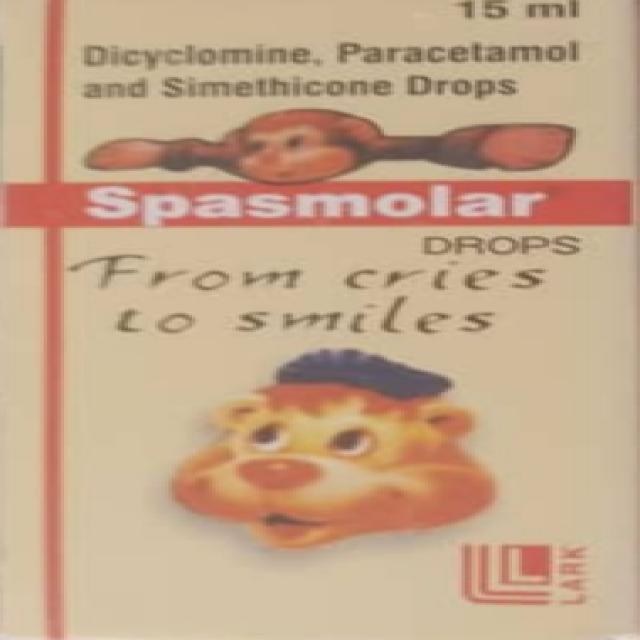drug-name: (77, 182, 550, 225)
